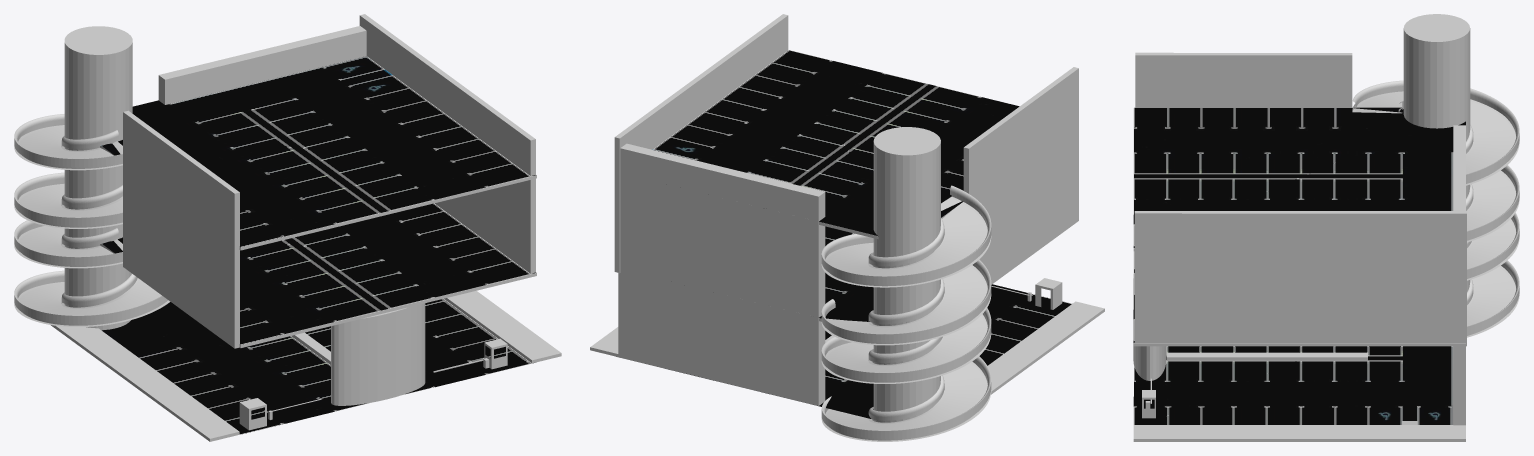
File: parking.glb
The picture shows the model from 3 angles, left to right: view 1: azimuth 30°, elevation 25°; view 2: azimuth 150°, elevation 25°; view 3: azimuth 270°, elevation 25°; orthographic projection. The views are drawn at different scales.
Parts seen in each view (by area): view 1: Bình Diện.002, Bình Diện.001, Bình Diện, Khối Lập Phương.016, Khối Lập Phương.017, Hình Trụ.001, Khối Lập Phương.015, Khối Lập Phương.021, Hình Trụ, Khối Lập Phương.020, Khối Lập Phương.010, Khối Lập Phương.009 (+3 smaller); view 2: Khối Lập Phương.020, Bình Diện.002, Khối Lập Phương.016, Khối Lập Phương.021, Khối Lập Phương.015, Hình Trụ.001, Khối Lập Phương.017, Bình Diện, Khối Lập Phương.010, Bình Diện.001, Khối Lập Phương, Khối Lập Phương.009; view 3: Khối Lập Phương.017, Bình Diện.002, Bình Diện, Khối Lập Phương.016, Khối Lập Phương.021, Hình Trụ.001, Khối Lập Phương.009, Khối Lập Phương.015, Khối Lập Phương.020, Khối Lập Phương.012, Khối Lập Phương.025, Khối Lập Phương.011 (+1 smaller).
Boxes of the visible parts, x1=… form: Bình Diện.002: x1=101, y1=56, x2=535, y2=247; Bình Diện.001: x1=102, y1=203, x2=535, y2=344; Bình Diện: x1=102, y1=298, x2=533, y2=434; Khối Lập Phương.016: x1=123, y1=110, x2=239, y2=348; Khối Lập Phương.017: x1=359, y1=14, x2=535, y2=273; Hình Trụ.001: x1=64, y1=26, x2=132, y2=330; Khối Lập Phương.015: x1=14, y1=220, x2=170, y2=326; Khối Lập Phương.021: x1=14, y1=114, x2=122, y2=228; Hình Trụ: x1=331, y1=303, x2=425, y2=405; Khối Lập Phương.020: x1=158, y1=26, x2=366, y2=104; Khối Lập Phương.010: x1=51, y1=325, x2=239, y2=441; Khối Lập Phương.009: x1=444, y1=290, x2=561, y2=363; Khối Lập Phương.020: x1=618, y1=143, x2=825, y2=405; Bình Diện.002: x1=652, y1=50, x2=1019, y2=236; Khối Lập Phương.016: x1=963, y1=67, x2=1078, y2=284; Khối Lập Phương.021: x1=821, y1=185, x2=991, y2=345; Khối Lập Phương.015: x1=821, y1=308, x2=991, y2=441; Hình Trụ.001: x1=873, y1=127, x2=940, y2=422; Khối Lập Phương.017: x1=614, y1=14, x2=788, y2=272; Bình Diện: x1=616, y1=284, x2=1071, y2=418; Khối Lập Phương.010: x1=987, y1=301, x2=1104, y2=394; Bình Diện.001: x1=819, y1=226, x2=873, y2=321; Khối Lập Phương: x1=1035, y1=278, x2=1062, y2=309; Khối Lập Phương.009: x1=590, y1=327, x2=618, y2=356; Khối Lập Phương.017: x1=1134, y1=211, x2=1466, y2=346; Bình Diện.002: x1=1133, y1=107, x2=1465, y2=247; Bình Diện: x1=1133, y1=346, x2=1453, y2=424; Khối Lập Phương.016: x1=1135, y1=52, x2=1352, y2=107; Khối Lập Phương.021: x1=1352, y1=80, x2=1519, y2=242; Hình Trụ.001: x1=1403, y1=14, x2=1470, y2=292; Khối Lập Phương.009: x1=1133, y1=425, x2=1465, y2=441; Khối Lập Phương.015: x1=1467, y1=213, x2=1519, y2=337; Khối Lập Phương.020: x1=1453, y1=125, x2=1465, y2=425; Khối Lập Phương.012: x1=1167, y1=352, x2=1367, y2=360; Khối Lập Phương.025: x1=1133, y1=108, x2=1465, y2=251; Khối Lập Phương.011: x1=1133, y1=251, x2=1465, y2=346.
Bounding box in the file's own units: 25.69 × 18.58 × 23.26.
Materials: 3 (3 with a texture image).
